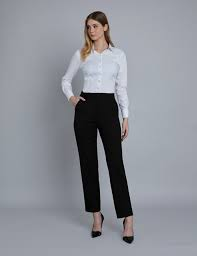F_shirt: (57, 42, 133, 114)
S_W_pants: (72, 91, 136, 215)
